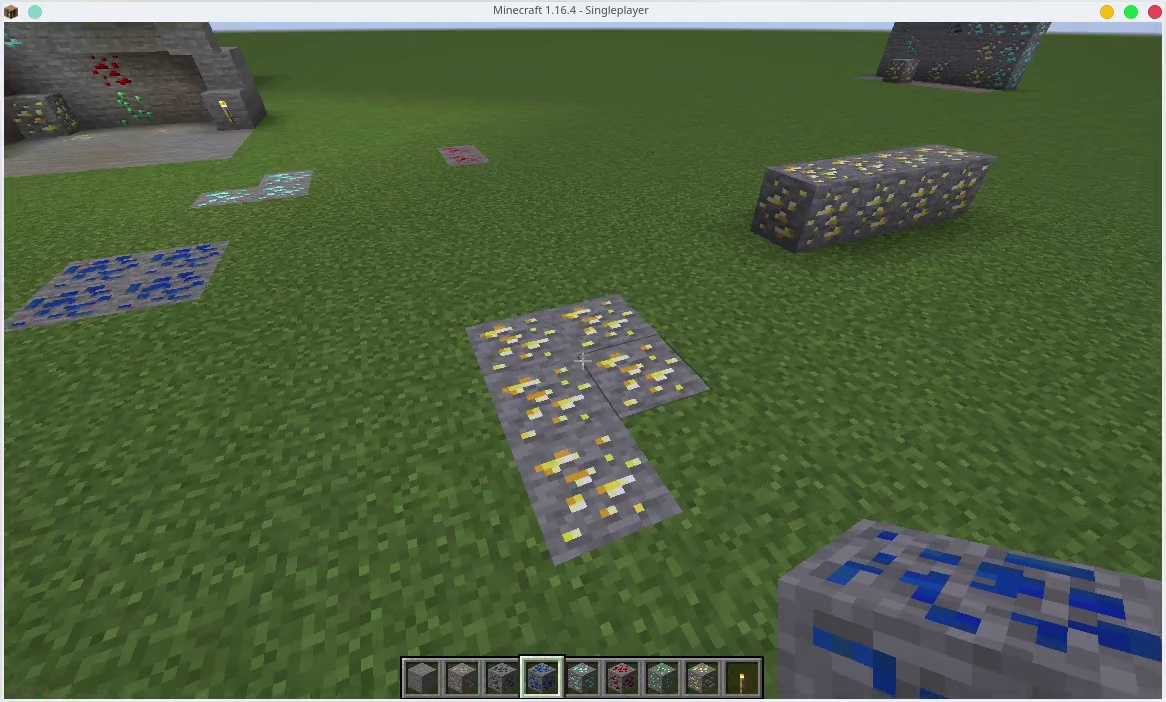gold: (530, 444, 657, 543), (496, 363, 604, 439), (764, 154, 844, 245), (600, 344, 684, 415), (563, 297, 637, 353), (471, 321, 556, 367), (896, 148, 940, 229), (855, 156, 895, 245), (6, 94, 81, 141), (938, 152, 974, 221), (687, 664, 717, 694), (890, 61, 916, 78), (977, 42, 996, 59), (965, 67, 985, 83)
